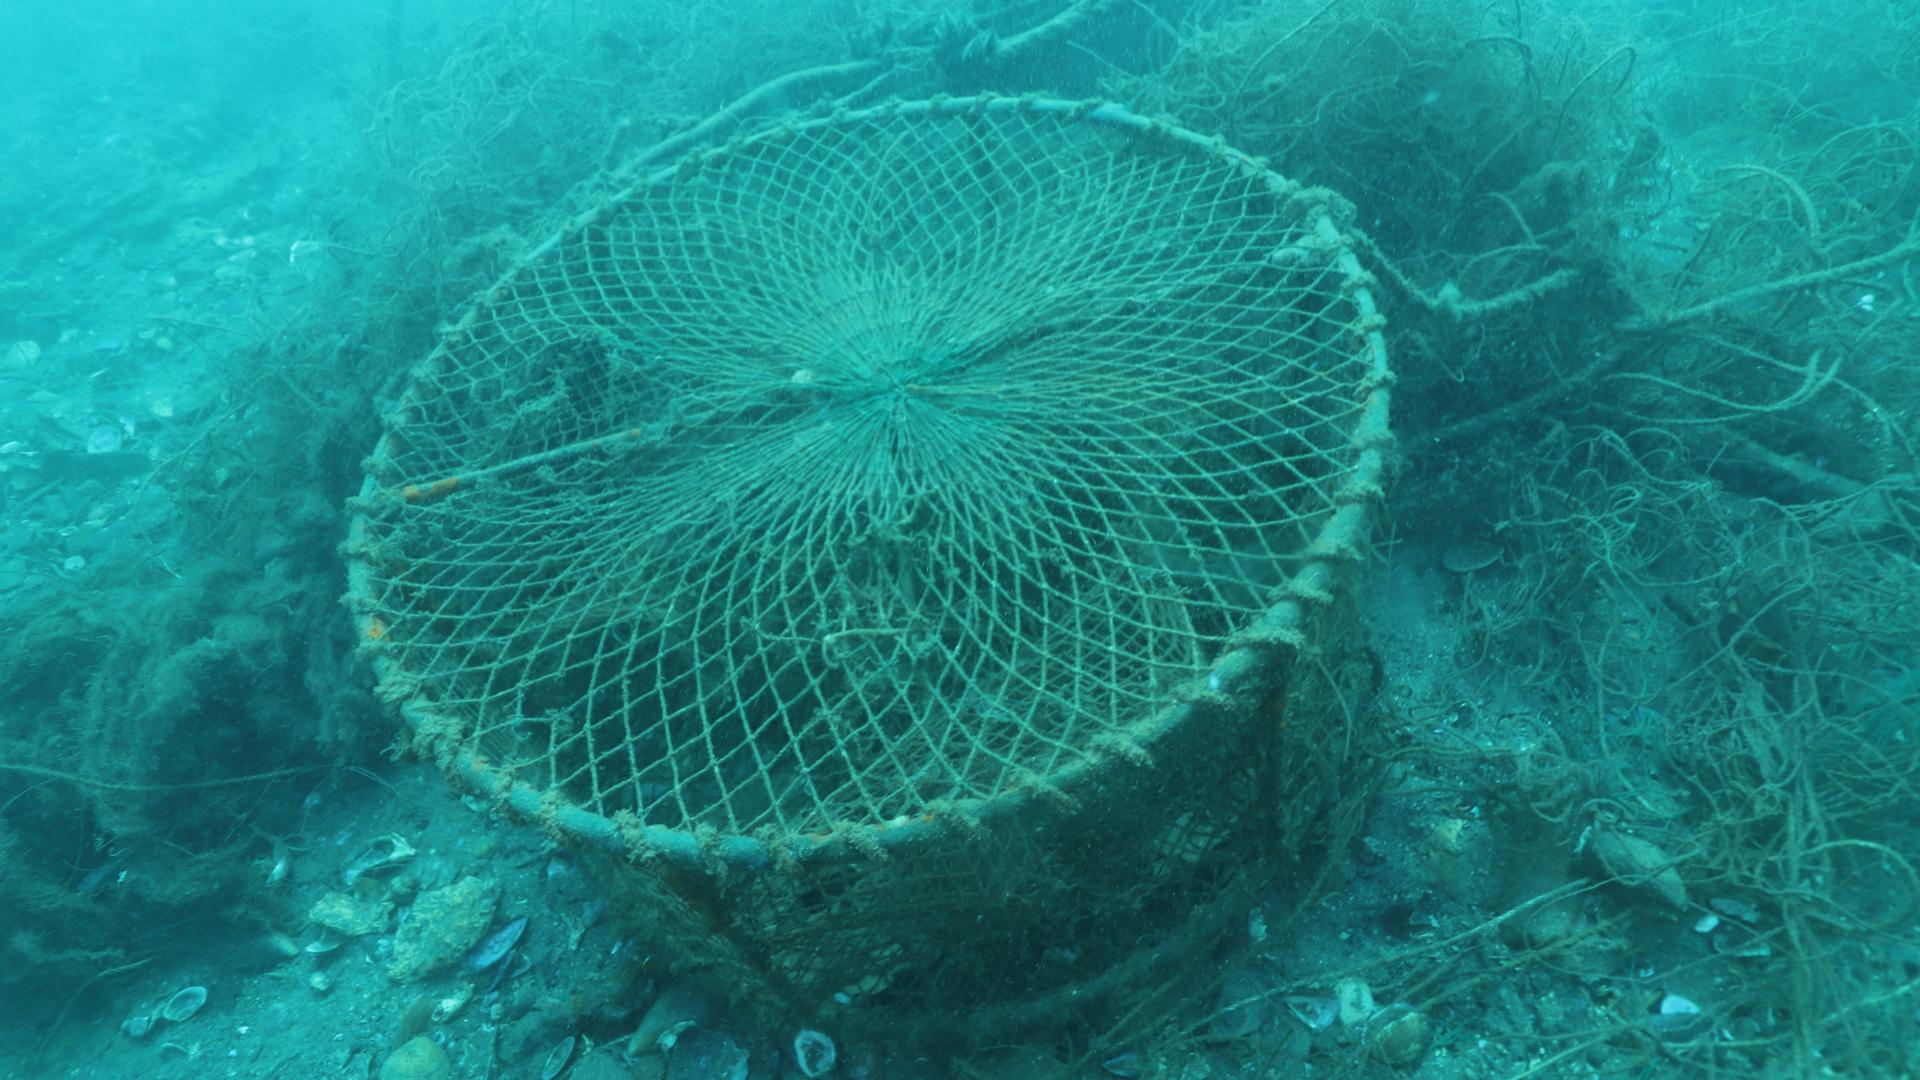circular fish trap: (334, 84, 1400, 1039)
